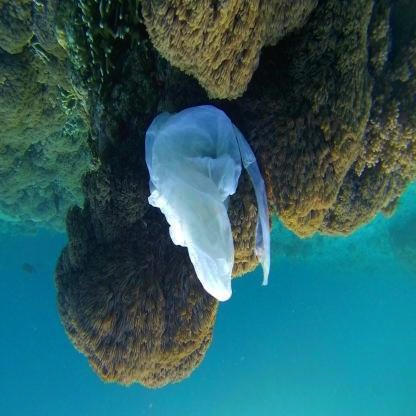pbag: (142, 102, 274, 306)
